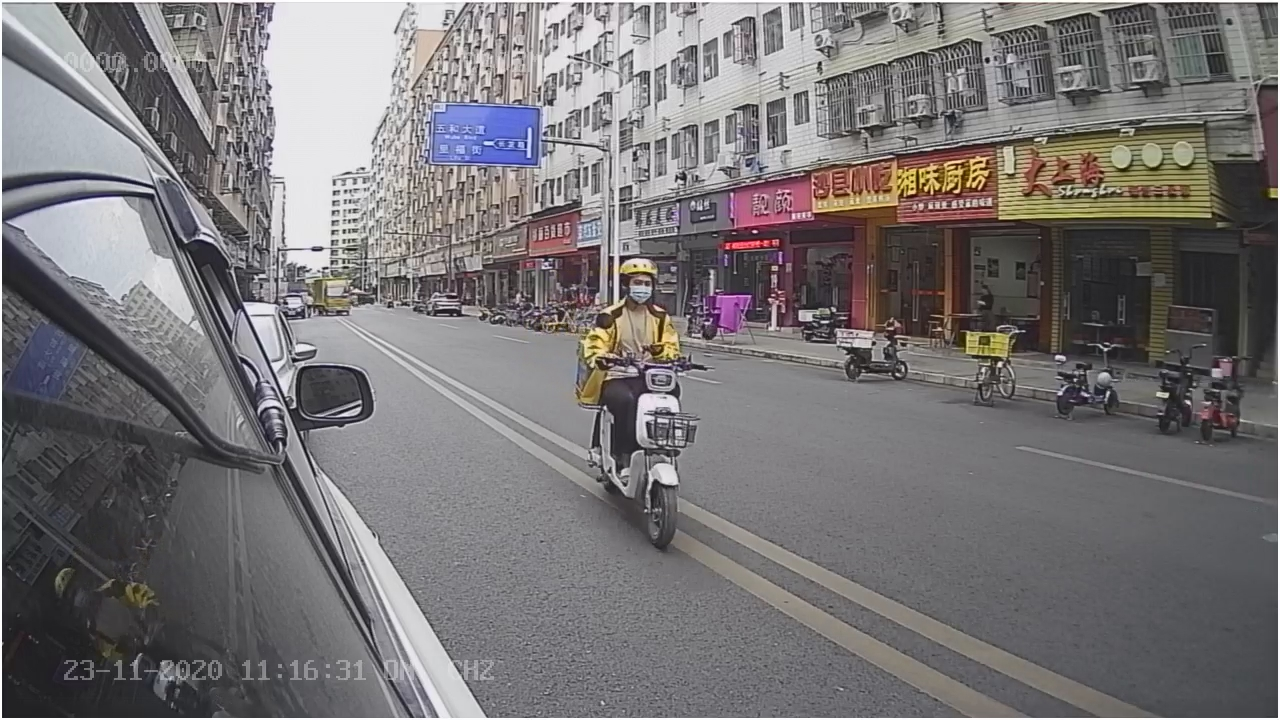person: (570, 252, 692, 355)
